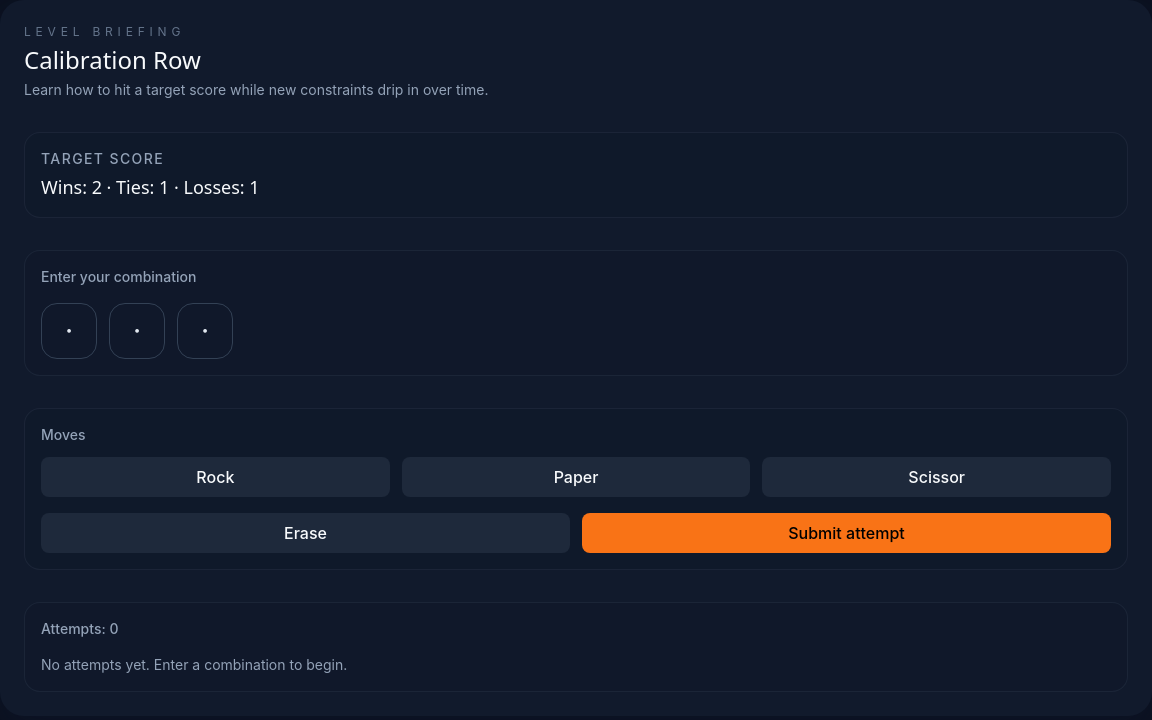
Test case: Game route – functional › lets the player enter moves, erase, and submit an attempt
Expected: the button "Submit attempt" is disabled, top-left (582, 513), bottom-right (1111, 553)
Click the button "Paper" at (576, 477), box top-left (402, 457), bottom-right (750, 497)
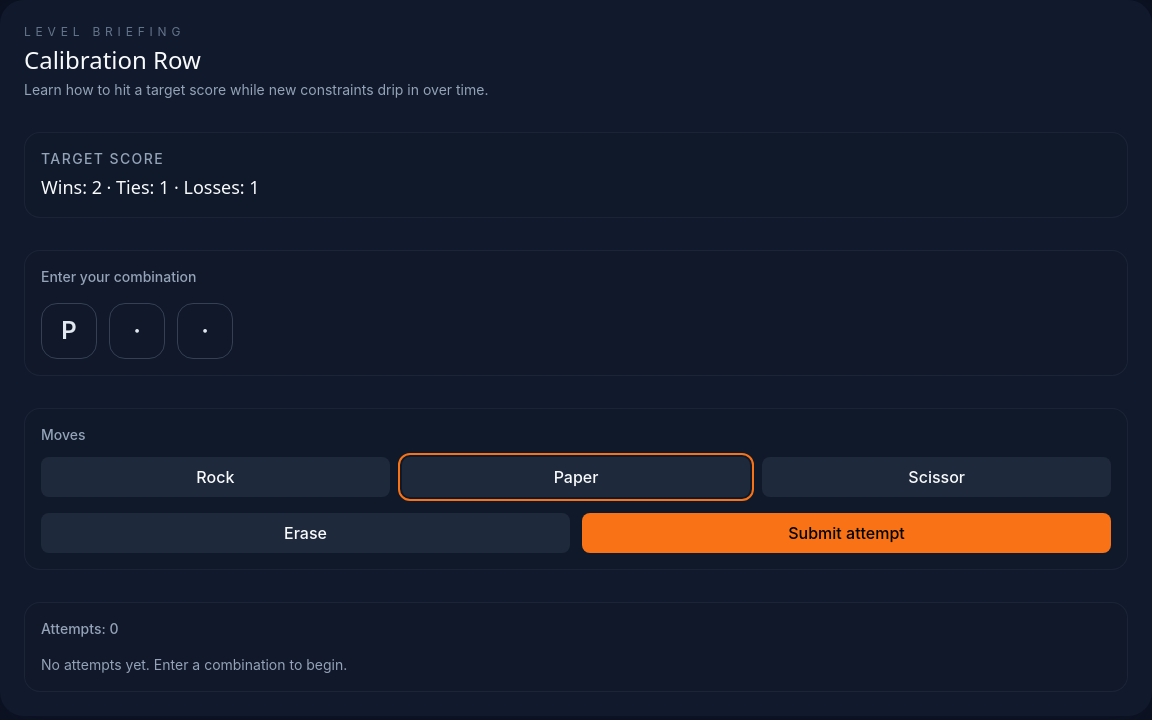
Click the button "Rock" at (215, 477), box top-left (41, 457), bottom-right (390, 497)
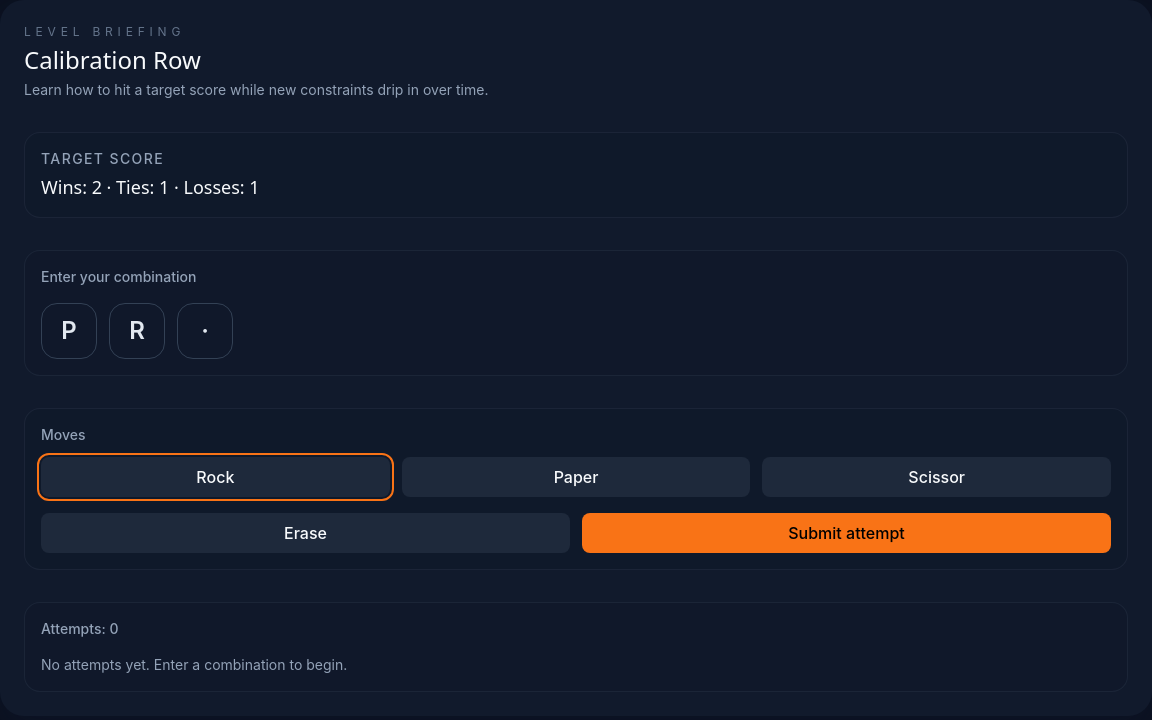
Click the button "Paper" at (576, 477), box top-left (402, 457), bottom-right (750, 497)
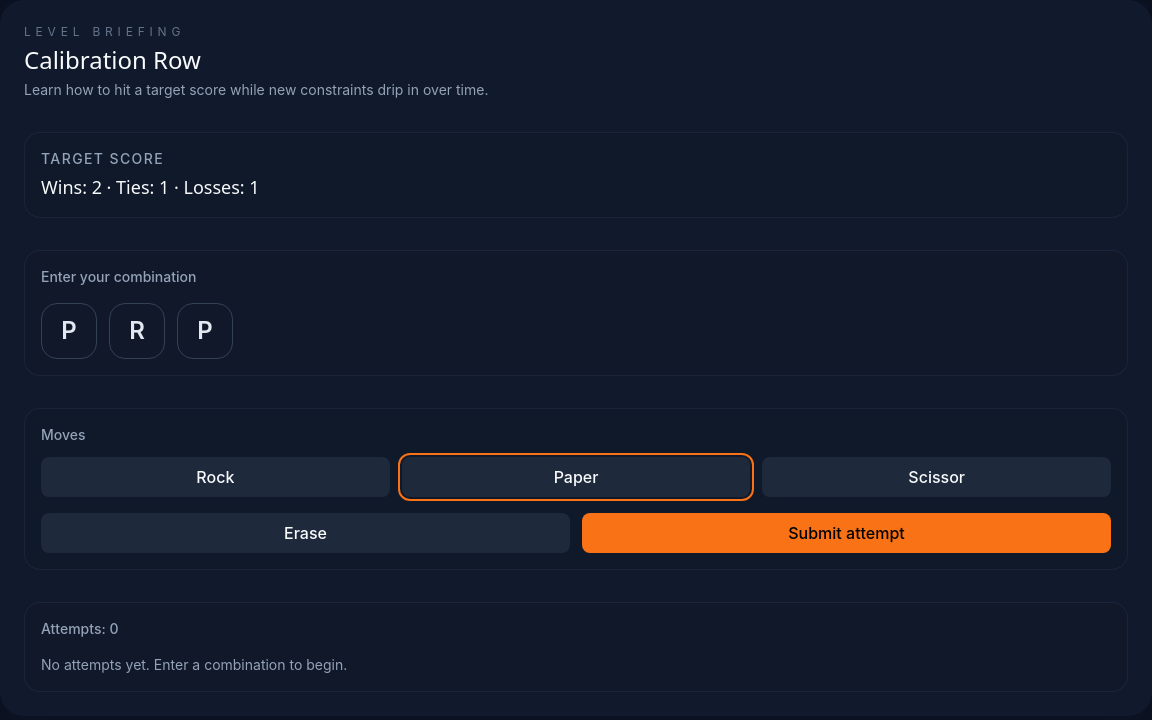
Expected: the button "Submit attempt" is enabled, top-left (582, 513), bottom-right (1111, 553)
Now the elements with test id "slot" read "P", "R", "P", in this order, box top-left (41, 303), bottom-right (97, 359); top-left (109, 303), bottom-right (165, 359); top-left (177, 303), bottom-right (233, 359)
Click the button "Erase" at (306, 533), box top-left (41, 513), bottom-right (570, 553)
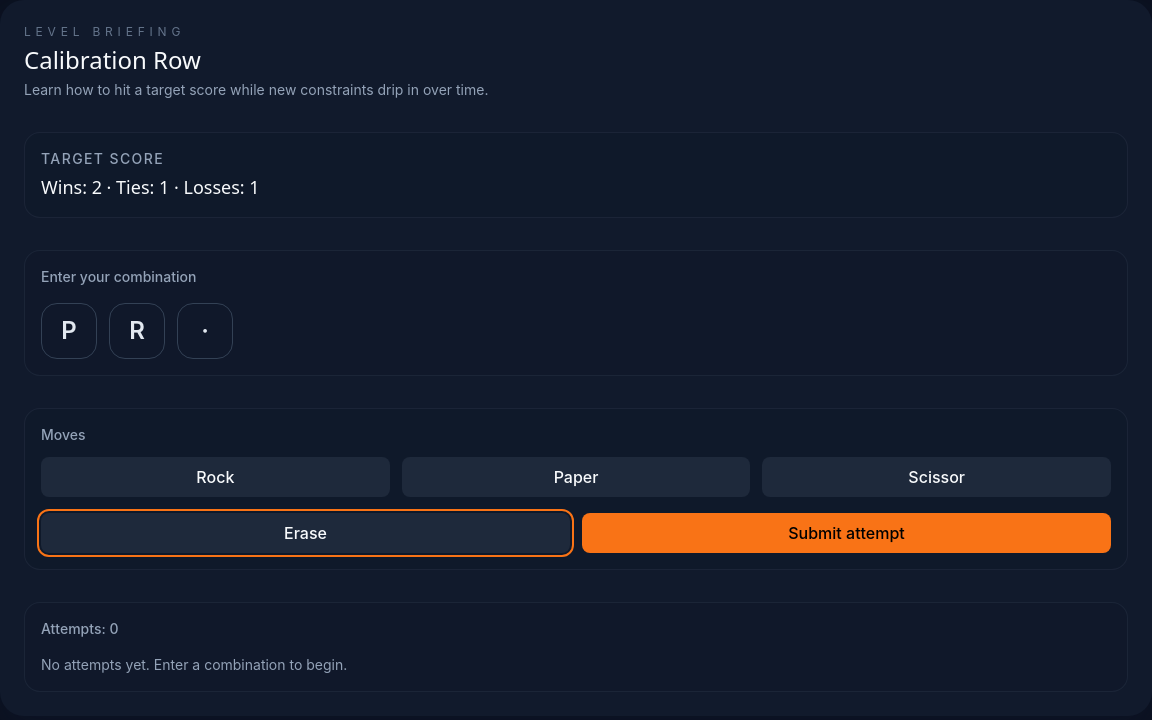
Expected: the button "Submit attempt" is disabled, top-left (582, 513), bottom-right (1111, 553)
Now the elements with test id "slot" read "P", "R", "·", in this order, box top-left (41, 303), bottom-right (97, 359); top-left (109, 303), bottom-right (165, 359); top-left (177, 303), bottom-right (233, 359)
Click the button "Paper" at (576, 477), box top-left (402, 457), bottom-right (750, 497)
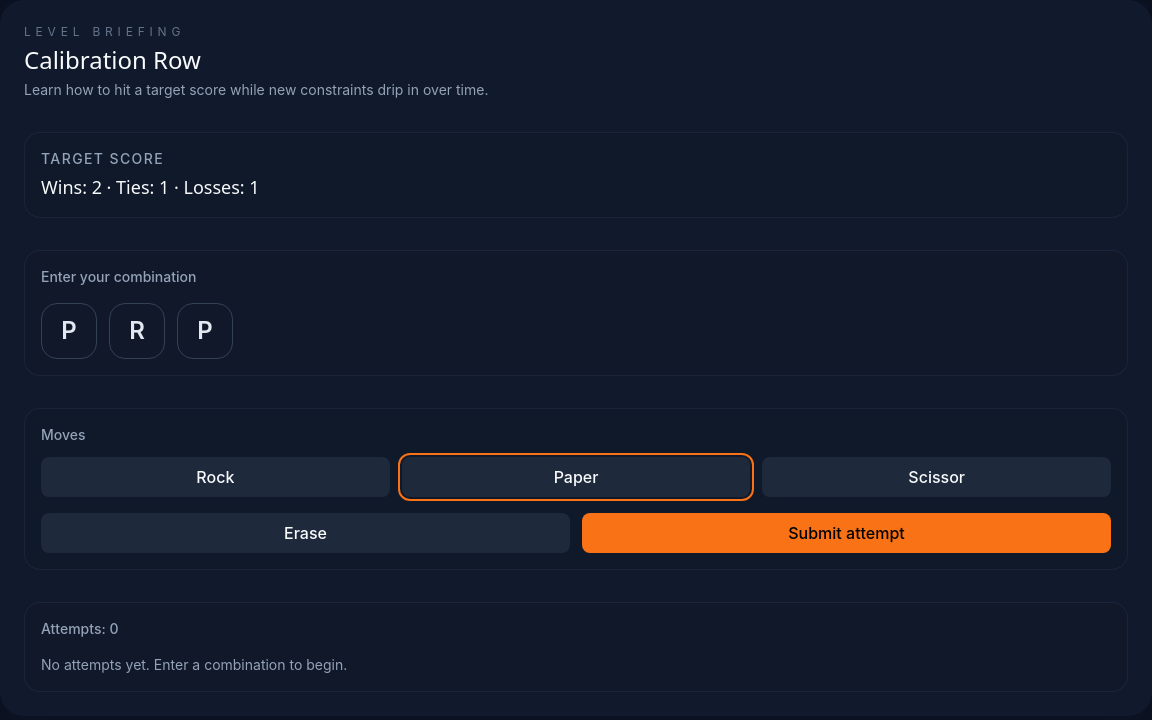
Click the button "Submit attempt" at (846, 533), box top-left (582, 513), bottom-right (1111, 553)
(page scrolled)
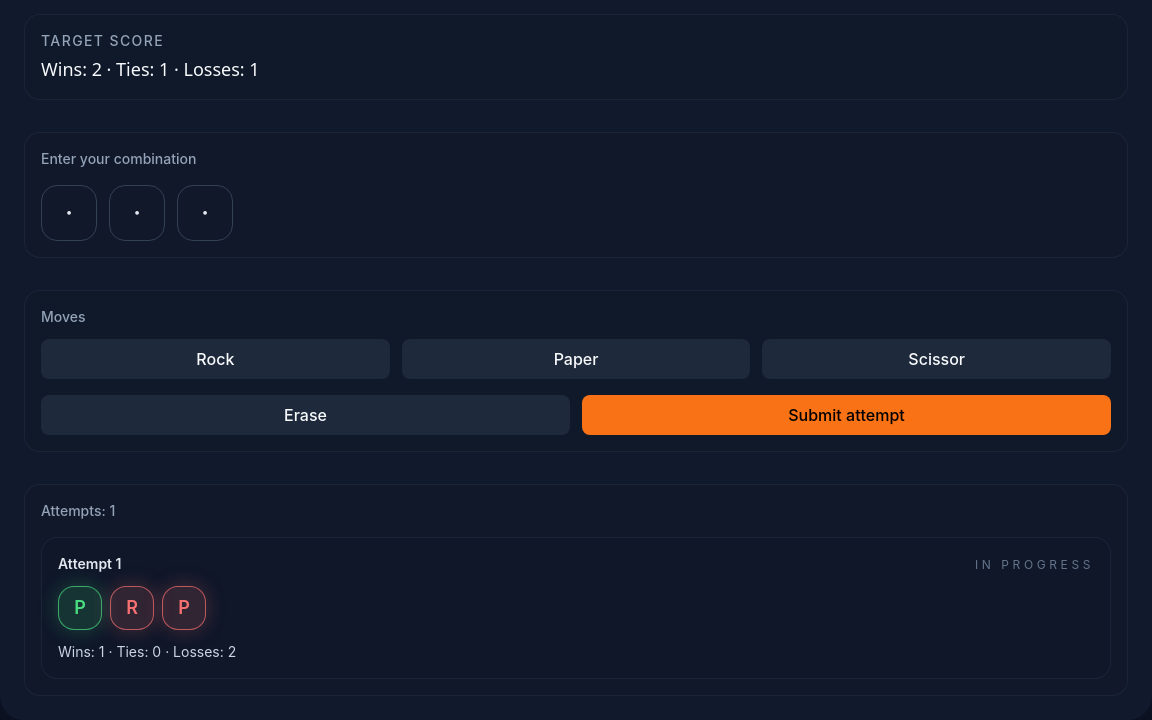
Now the element "Attempts" shows "Attempts: 1", box top-left (41, 502), bottom-right (115, 519)
Now the element "Attempts" reads "Attempts: 1 Attempt 1 In progress P R P Wins: 1 · Ties: 0 · Losses: 2", box top-left (58, 643), bottom-right (236, 660)
Now the elements with test id "slot" read "·", "·", "·", in this order, box top-left (41, 185), bottom-right (97, 241); top-left (109, 185), bottom-right (165, 241); top-left (177, 185), bottom-right (233, 241)
